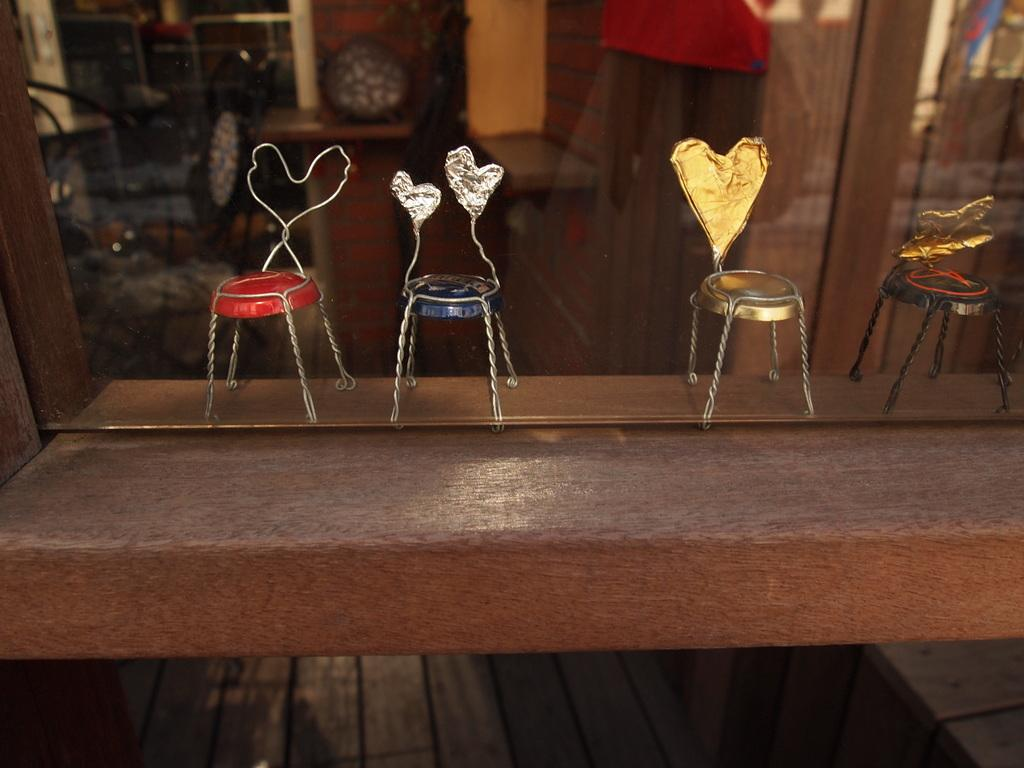Chair: (204, 140, 358, 424), (668, 138, 816, 430), (850, 198, 1014, 417), (385, 210, 515, 412)
